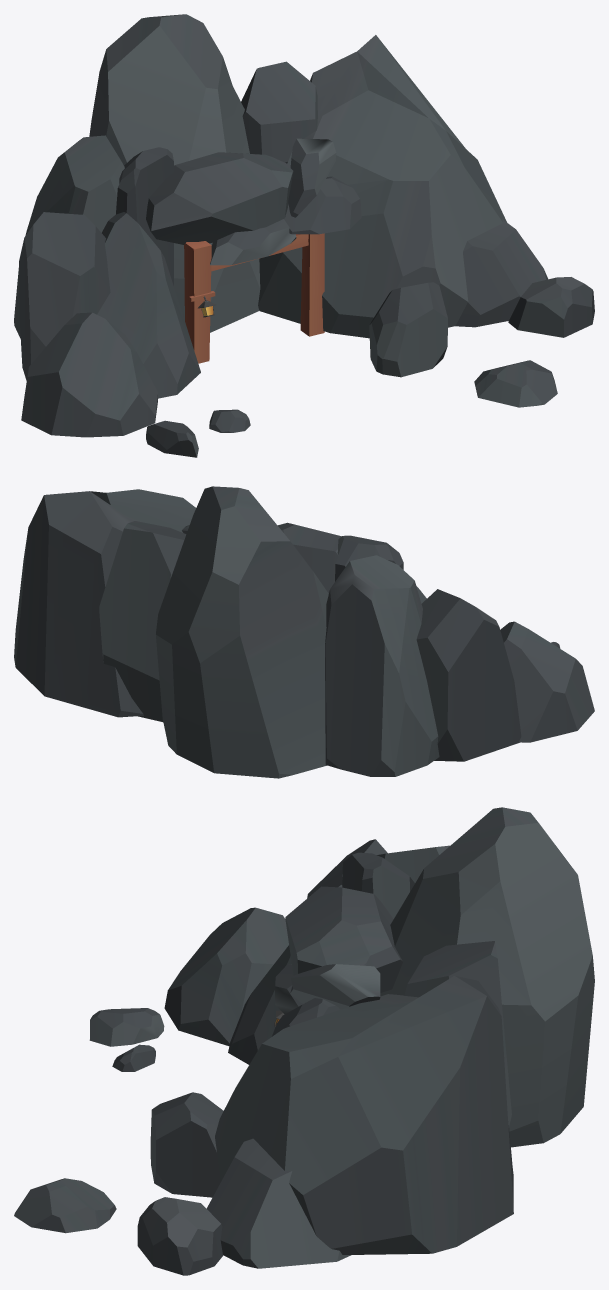
File: Caverna.fbx
3 views of the same model, one above another, from view 1: azimuth 30°, elevation 25°; view 2: azimuth 150°, elevation 25°; view 3: azimuth 270°, elevation 25° (orthographic). The views are drawn at different scales.
Visible parts, largest first — view 1: Mina; view 2: Mina; view 3: Mina.
Part boxes in pixels (x1,y1,x2,y2): Mina: (14, 14, 594, 457); Mina: (14, 486, 594, 778); Mina: (14, 807, 594, 1275).
Size of the model in its own units: 857 by 416 by 697.
1 material, 1 textured.
